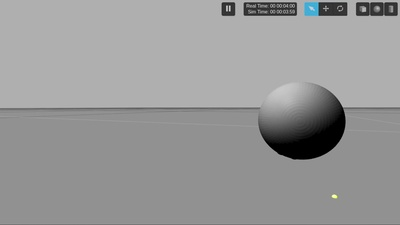mira_robot: (258, 82, 346, 160)
